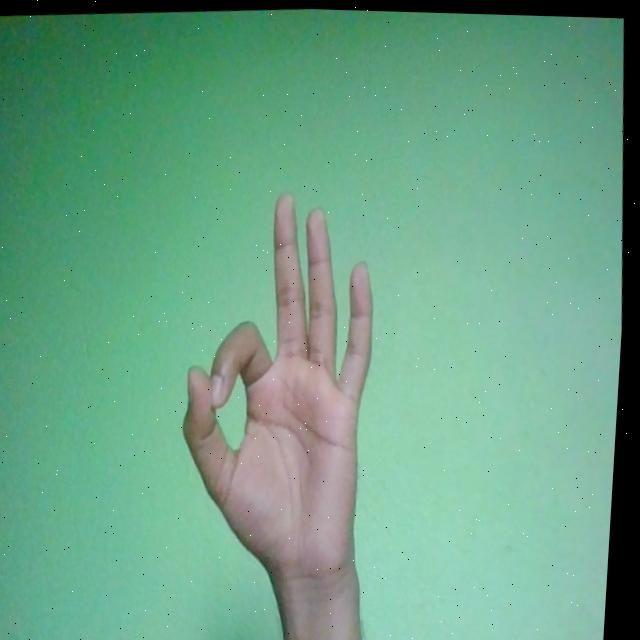Ok: (168, 181, 395, 591)
